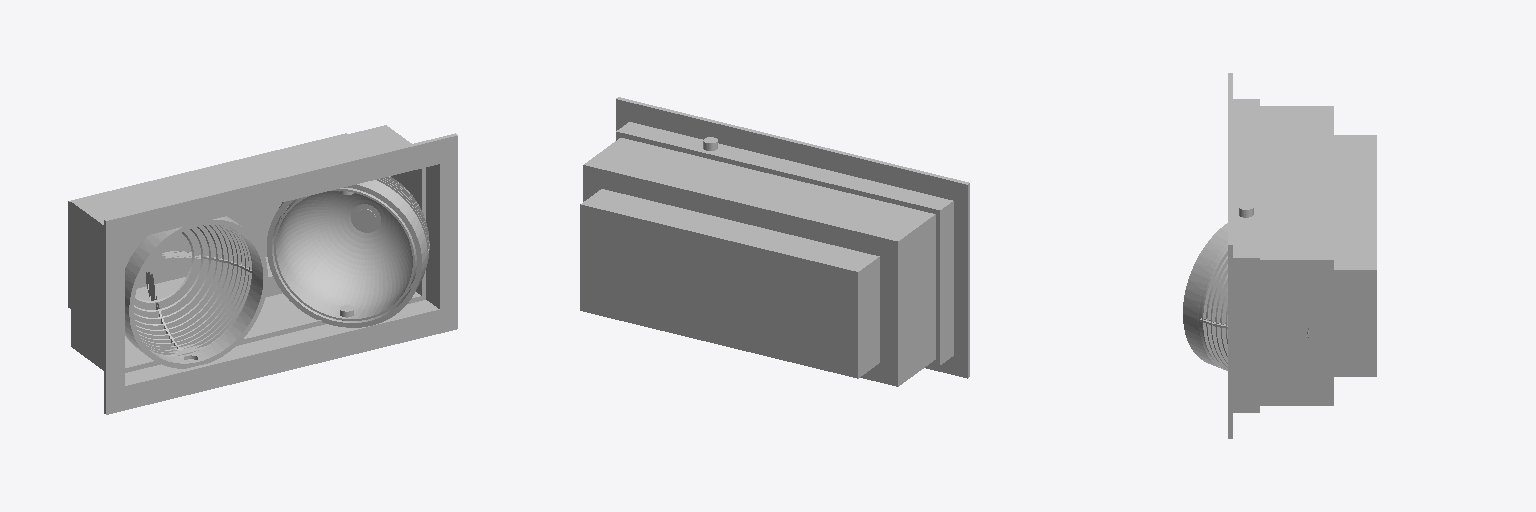
File: 装配体.obj
3 views of the same model, side by side, from view 1: azimuth 30°, elevation 25°; view 2: azimuth 150°, elevation 25°; view 3: azimuth 270°, elevation 25° (orthographic).
Parts seen in each view (by area): view 1: _______Model__1________; view 2: _______Model__1________; view 3: _______Model__1________.
Boxes of the visible parts, box(x1,y1,x2,y2) form: _______Model__1________: box(68, 125, 457, 414); _______Model__1________: box(580, 97, 969, 386); _______Model__1________: box(1183, 73, 1376, 438).
Size of the model in its own units: 380 by 200 by 182.